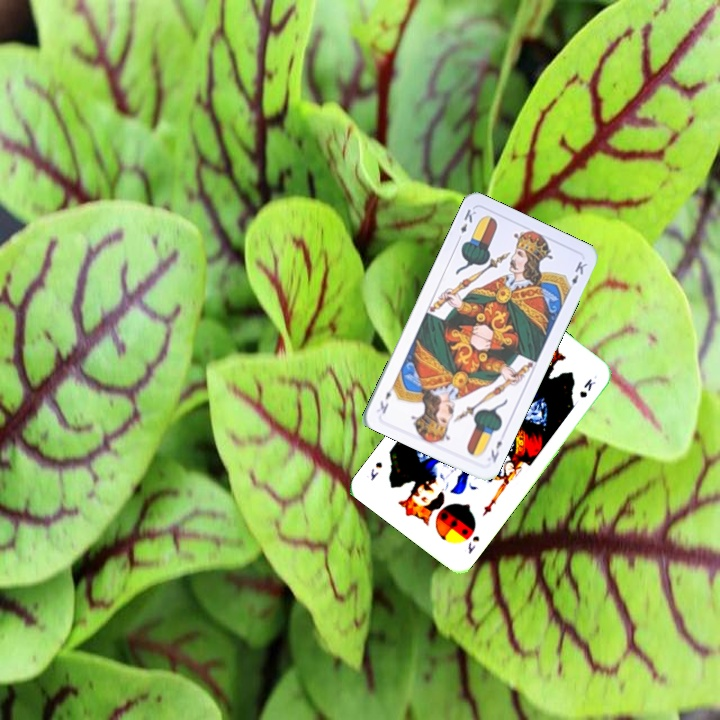EK: (453, 205, 479, 244), (486, 437, 505, 465)
SK: (463, 532, 482, 557)
